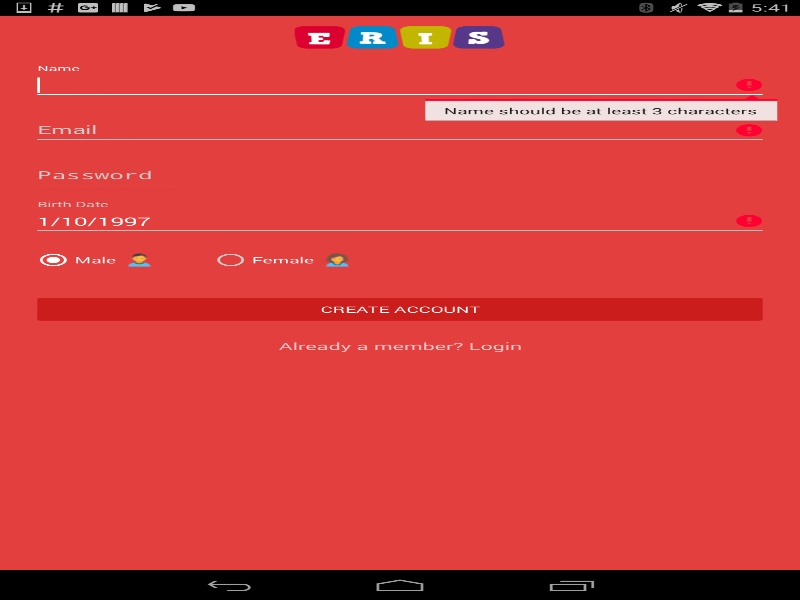Button: (32, 294, 768, 324)
Input: (32, 116, 768, 145), (32, 161, 768, 190), (32, 71, 768, 99), (32, 207, 768, 235)
